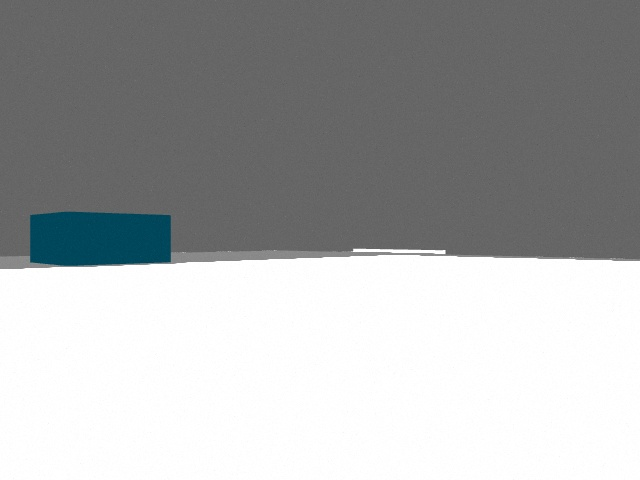blue_drop_zone: (30, 212, 171, 266)
